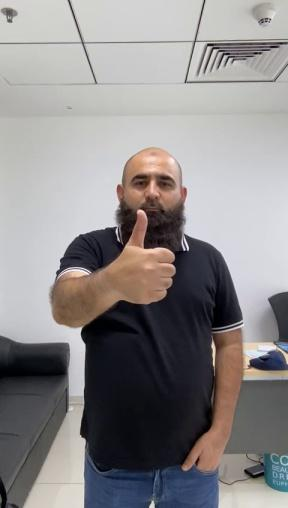thumbs-up: (102, 211, 183, 313)
